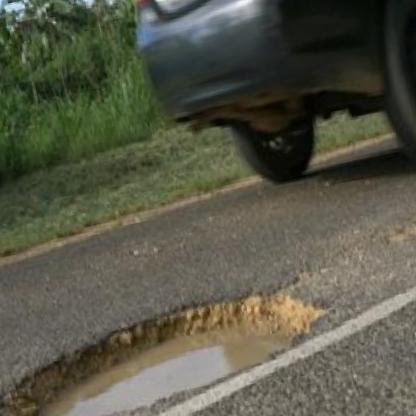pothole: (0, 289, 321, 416)
